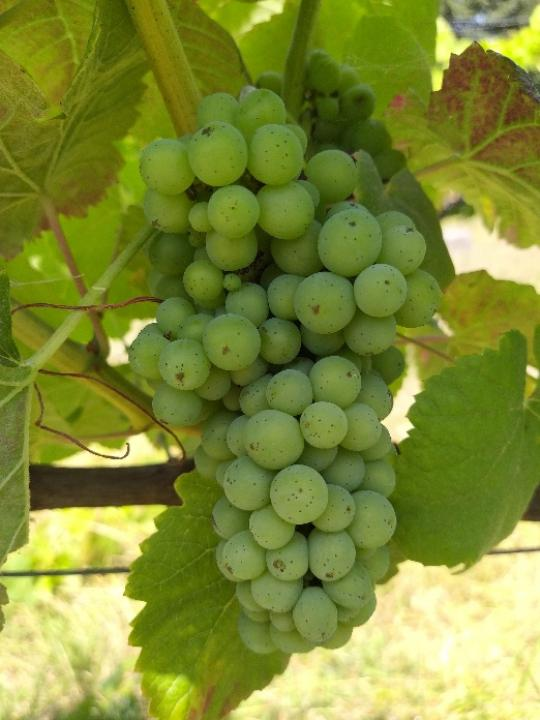grape: (126, 83, 443, 658)
